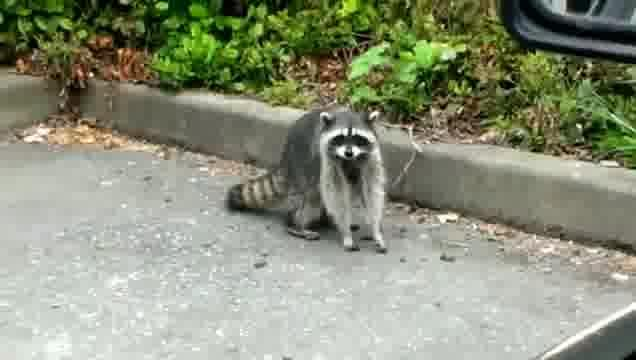raccoon: (224, 103, 397, 262)
